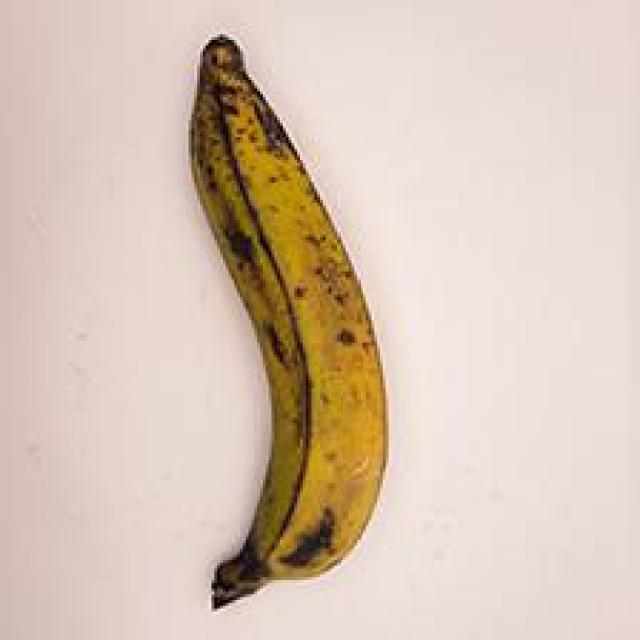Overripe: (129, 29, 421, 627)
